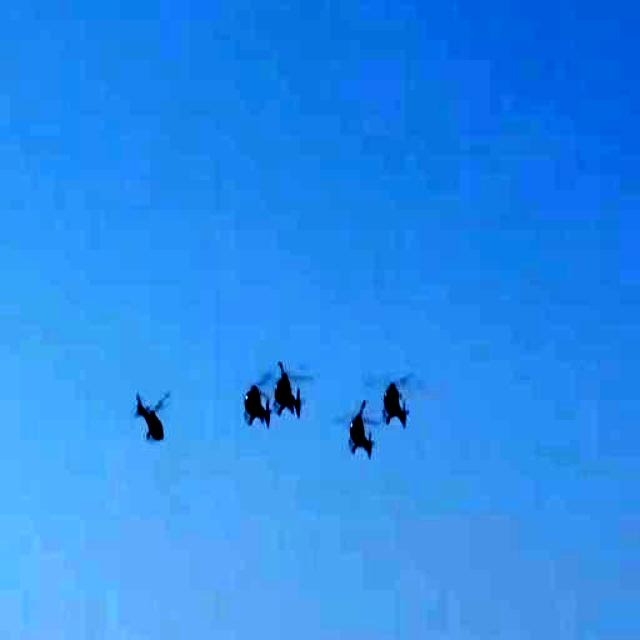drone: (368, 351, 432, 449), (339, 398, 385, 476), (134, 385, 181, 458), (274, 360, 304, 424), (240, 380, 270, 426)
